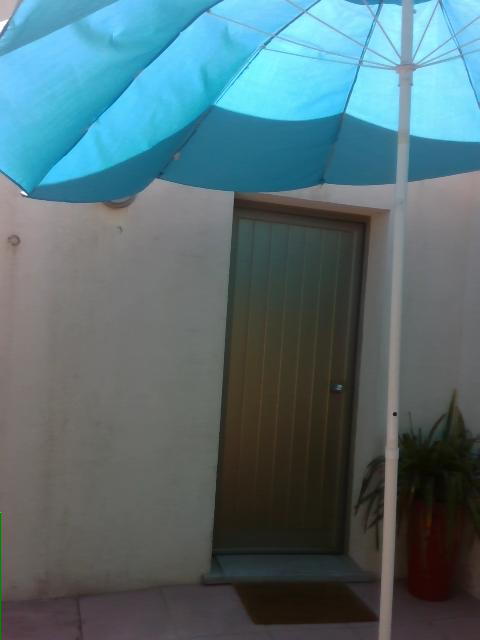door: (208, 191, 388, 574)
